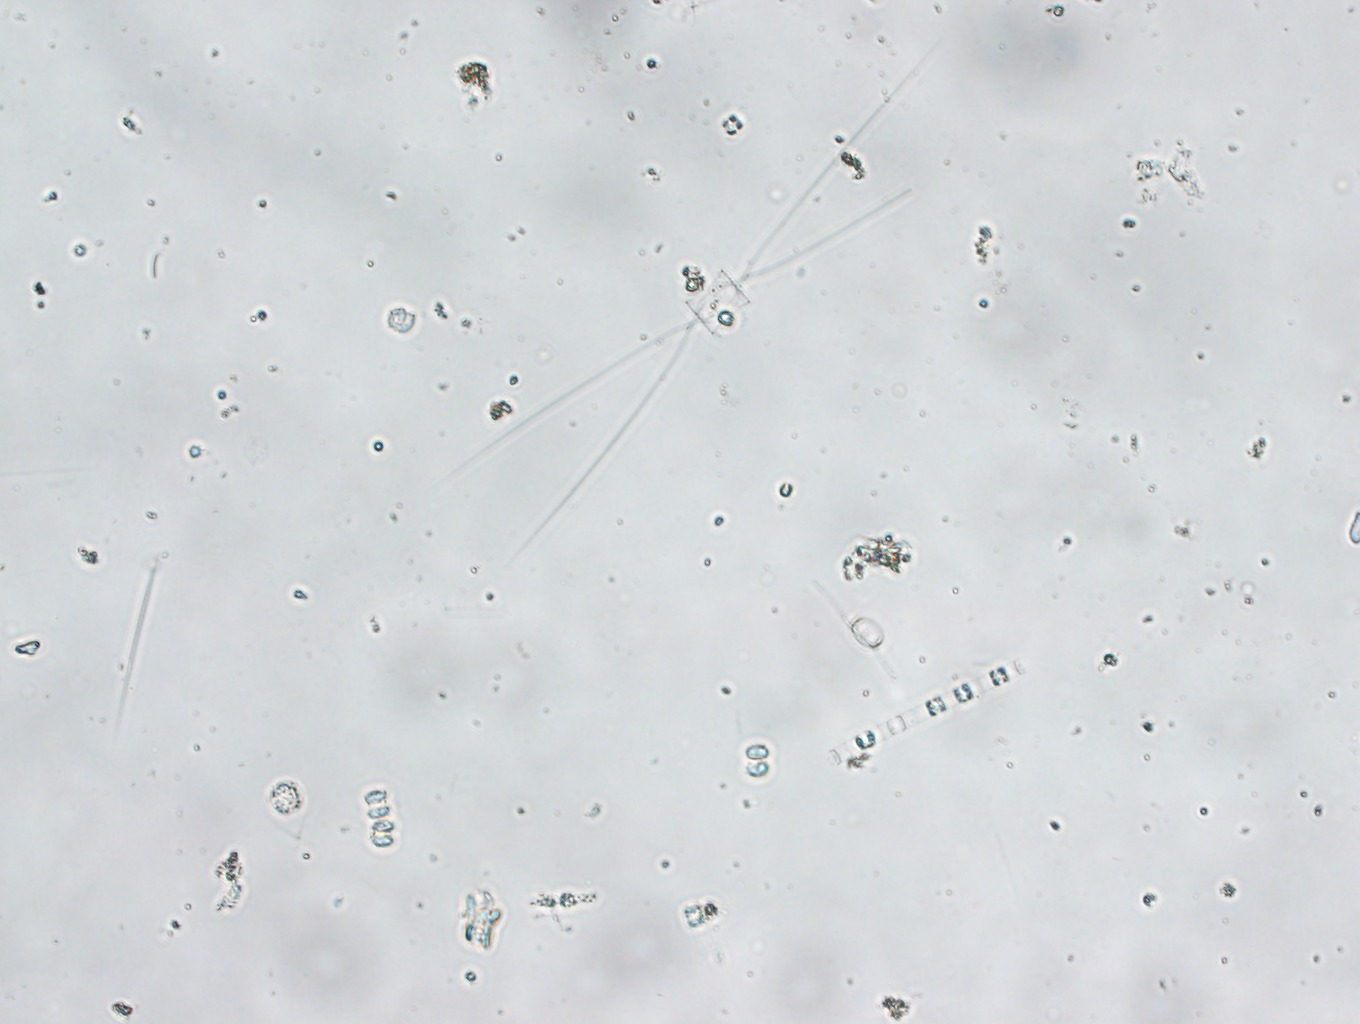chaetoceros: (457, 72, 943, 564)
skeletonema: (798, 644, 1053, 777)
